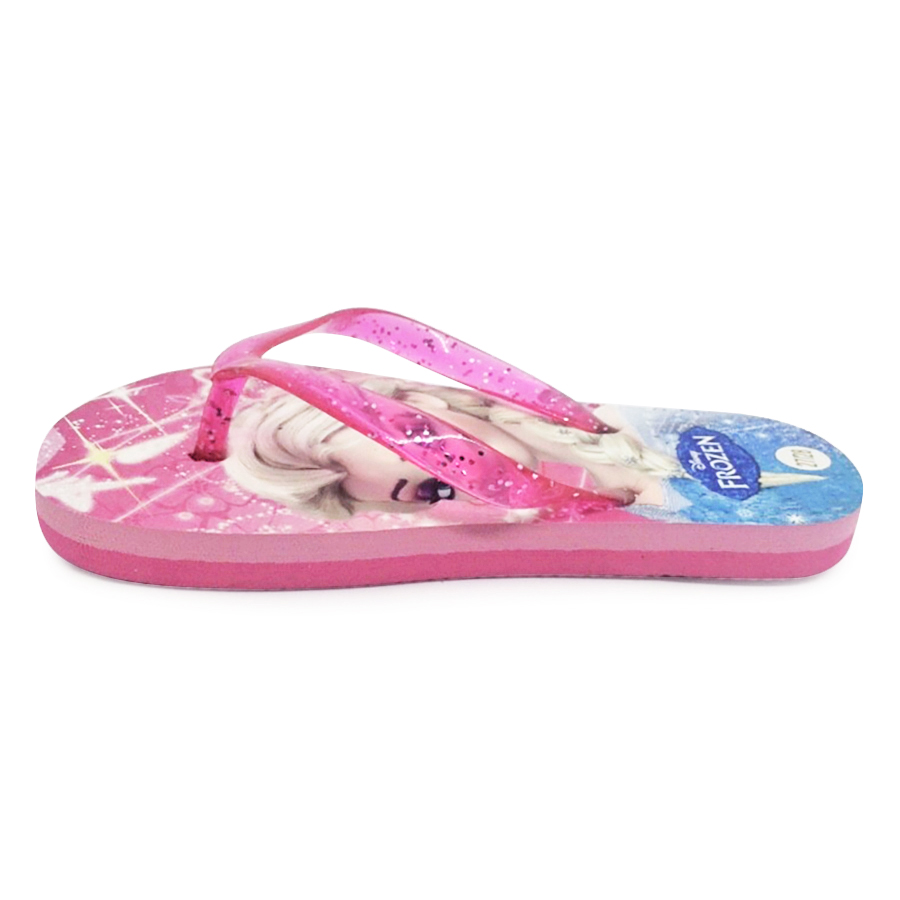Disney: (679, 440, 710, 486)
